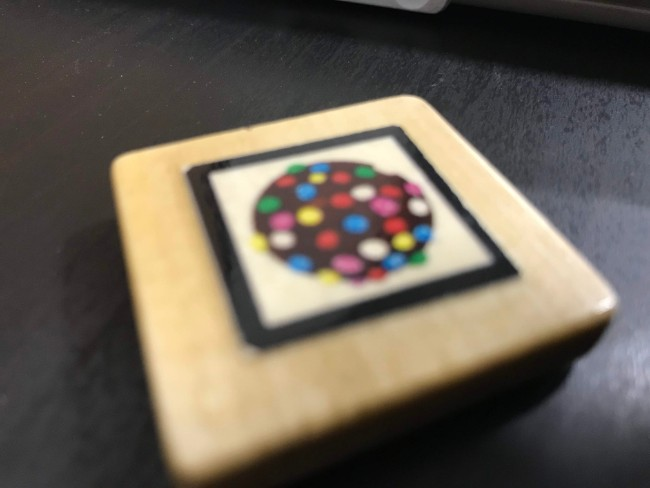cookie: (170, 112, 540, 363)
